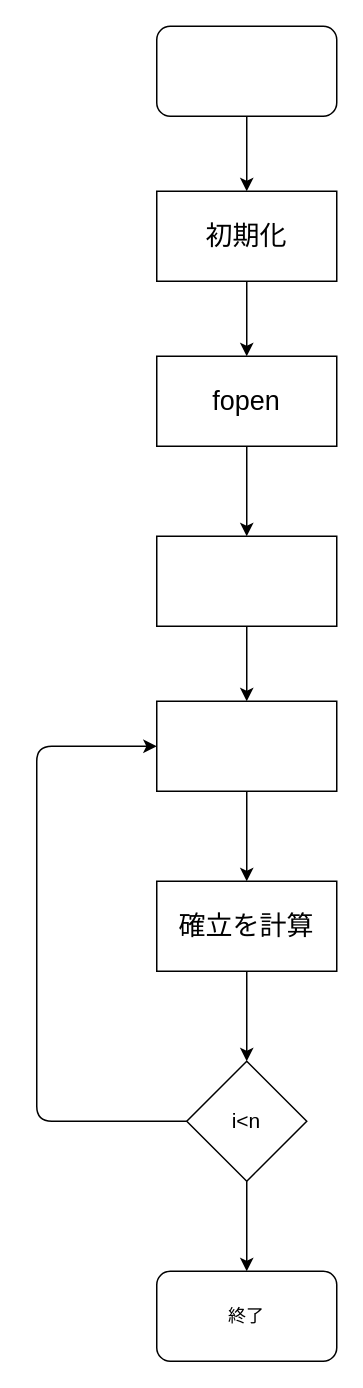
The diagram is 363 pixels wide and 1388 high, and some of its shapes have lost their labels. Each missing label, with the box of its shape:
nとpのscanf: (155, 535, 337, 626)
二項係数の計算: (155, 700, 337, 791)
開始: (155, 25, 337, 116)
